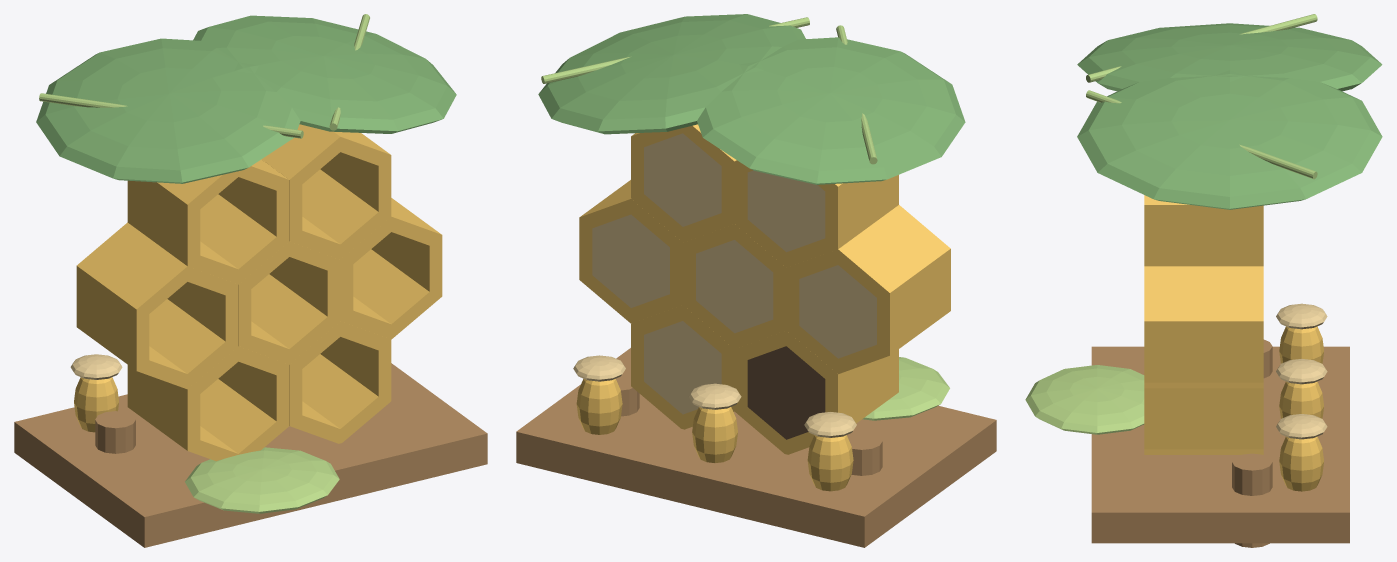
File: BeeHoneycombHome3.fbx
3 renders of one model, left to right at view 1: azimuth 30°, elevation 25°; view 2: azimuth 150°, elevation 25°; view 3: azimuth 270°, elevation 25°, orthographic. The views are drawn at different scales.
Visible parts, largest first — view 1: Timber landing deck.002, Overlapping roof leaf.004, Overlapping roof leaf.005, Hexagonal wax room.011, Hexagonal wax room.013, Hexagonal wax room.009, Hexagonal wax room.014, Hexagonal wax room.012, Hexagonal wax room.008, Hexagonal wax room.010, Entrance landing leaf.002, Honey jar.003 (+3 smaller); view 2: Timber landing deck.002, Overlapping roof leaf.004, Overlapping roof leaf.005, Hexagonal wax room.011, Hexagonal wax room.009, Hexagonal wax room.013, Recessed chamber.011, Recessed chamber.012, Recessed chamber.014, Recessed chamber.008, Recessed chamber.009, Recessed chamber.013 (+15 smaller); view 3: Overlapping roof leaf.005, Timber landing deck.002, Hexagonal wax room.012, Overlapping roof leaf.004, Hexagonal wax room.010, Hexagonal wax room.014, Entrance landing leaf.002, Honey jar.005, Raised hive foot.005, Honey jar.004, Honey jar.003, Honey jar lid.003 (+4 smaller).
Boxes of the visible parts, x1,y1,x2,y2 form: Timber landing deck.002: [14, 363, 487, 547]; Overlapping roof leaf.004: [36, 38, 300, 183]; Overlapping roof leaf.005: [193, 15, 456, 133]; Hexagonal wax room.011: [76, 222, 238, 389]; Hexagonal wax room.013: [127, 159, 289, 284]; Hexagonal wax room.009: [127, 346, 289, 461]; Hexagonal wax room.014: [261, 124, 391, 259]; Hexagonal wax room.012: [340, 198, 442, 339]; Hexagonal wax room.008: [238, 241, 340, 364]; Hexagonal wax room.010: [289, 321, 391, 443]; Entrance landing leaf.002: [185, 447, 339, 513]; Honey jar.003: [74, 377, 118, 432]; Timber landing deck.002: [516, 348, 996, 547]; Overlapping roof leaf.004: [697, 37, 965, 184]; Overlapping roof leaf.005: [538, 14, 805, 134]; Hexagonal wax room.011: [786, 205, 950, 374]; Hexagonal wax room.009: [734, 330, 898, 454]; Hexagonal wax room.013: [734, 160, 898, 267]; Recessed chamber.011: [799, 265, 876, 358]; Recessed chamber.012: [592, 214, 669, 307]; Recessed chamber.014: [644, 133, 721, 226]; Recessed chamber.008: [696, 240, 773, 333]; Recessed chamber.009: [747, 346, 825, 439]; Recessed chamber.013: [747, 170, 825, 252]; Overlapping roof leaf.005: [1077, 70, 1382, 209]; Timber landing deck.002: [1091, 346, 1349, 543]; Hexagonal wax room.012: [1144, 266, 1263, 388]; Overlapping roof leaf.004: [1077, 23, 1382, 91]; Hexagonal wax room.010: [1144, 388, 1263, 454]; Hexagonal wax room.014: [1144, 195, 1263, 266]; Entrance landing leaf.002: [1025, 365, 1144, 434]; Honey jar.005: [1279, 436, 1324, 491]; Raised hive foot.005: [1232, 453, 1272, 547]; Honey jar.004: [1279, 381, 1323, 418]; Honey jar.003: [1279, 326, 1323, 363]; Honey jar lid.003: [1276, 303, 1327, 329].
Size of the model in its own units: 191 by 199 by 159.
